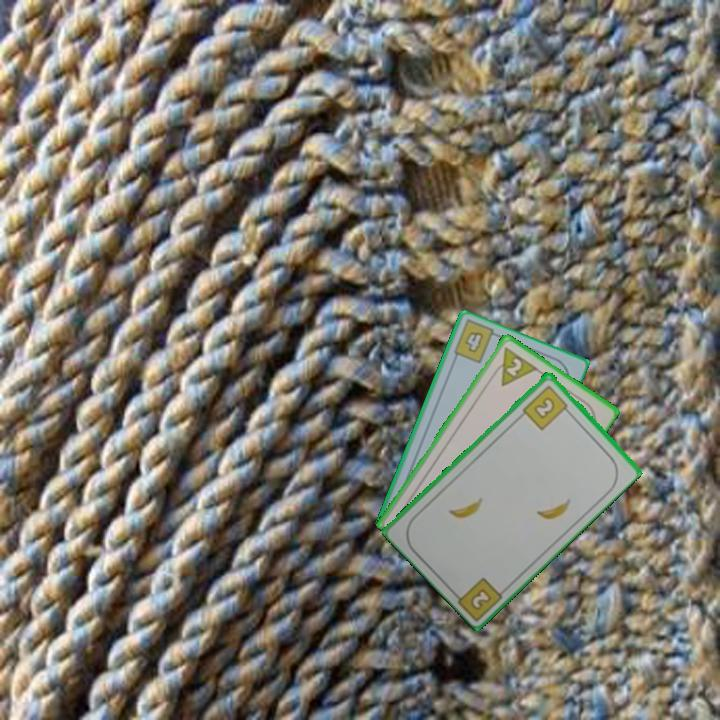2b: (519, 381, 573, 433), (466, 584, 495, 613)
2p: (487, 343, 540, 389)
4b: (461, 327, 486, 356)
